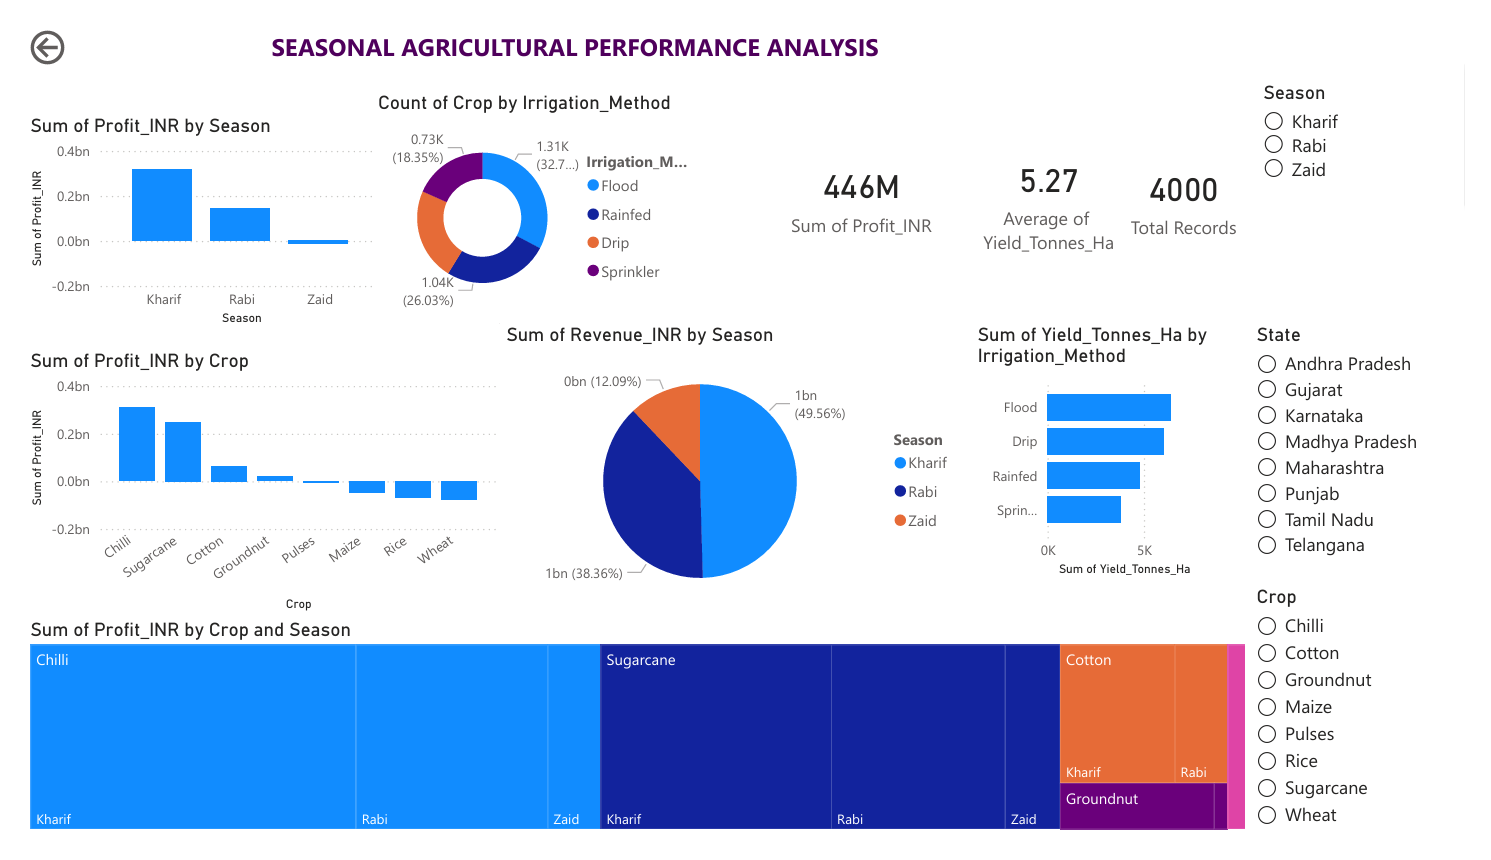

The dashboard page shown, as its layout file describes it:
{"tool":"powerbi","page":{"name":"Page 1","canvas":[1280,720],"ordinal":0},"visuals":[{"type":"lineStackedColumnComboChart","fields":{"Category":["seasonal_agriculture_cleaned (1).Season"],"Y":["Sum(seasonal_agriculture_cleaned (1).Profit_INR)"]},"box":[0,79.1,322.7,192.7],"z":0},{"type":"card","fields":{"Values":["Sum(seasonal_agriculture_cleaned (1).Revenue_INR)"]},"box":[354.6,128.4,275.1,211.6],"z":1000},{"type":"donutChart","fields":{"Y":["CountNonNull(seasonal_agriculture_cleaned (1).Crop)"],"Category":["seasonal_agriculture_cleaned (1).Irrigation_Method"]},"box":[309.1,59.1,287.3,206.4],"z":2000},{"type":"pieChart","fields":{"Y":["Sum(seasonal_agriculture_cleaned (1).Revenue_INR)"],"Category":["seasonal_agriculture_cleaned (1).Season"]},"box":[423.1,265.4,418.2,261.7],"z":3000},{"type":"columnChart","fields":{"Y":["Sum(seasonal_agriculture_cleaned (1).Profit_INR)"],"Category":["seasonal_agriculture_cleaned (1).Crop"]},"box":[0,288.2,423.6,238.2],"z":4000},{"type":"card","fields":{"Values":["Avg(seasonal_agriculture_cleaned (1).Yield_Tonnes_Ha)"]},"box":[841.8,59.1,136.4,175.5],"z":5000},{"type":"card","fields":{"Values":["CountNonNull(seasonal_agriculture_cleaned (1).Season)"]},"box":[970.9,59.1,118.2,191.8],"z":6000},{"type":"barChart","fields":{"Category":["seasonal_agriculture_cleaned (1).Irrigation_Method"],"Y":["Sum(seasonal_agriculture_cleaned (1).Yield_Tonnes_Ha)"]},"box":[841.8,265.5,216.4,229.1],"z":7000},{"type":"treemap","fields":{"Details":["seasonal_agriculture_cleaned (1).Season"],"Group":["seasonal_agriculture_cleaned (1).Crop"],"Values":["Sum(seasonal_agriculture_cleaned (1).Profit_INR)"]},"box":[0,527,1089.5,193.2],"z":8000},{"type":"listSlicer","fields":{"Values":["seasonal_agriculture_cleaned (1).Season"]},"box":[1095.7,50.1,184.6,200.5],"z":9000},{"type":"listSlicer","fields":{"Values":["seasonal_agriculture_cleaned (1).State"]},"box":[1089.5,265.4,190.8,214],"z":10000},{"type":"listSlicer","fields":{"Values":["seasonal_agriculture_cleaned (1).Crop"]},"box":[1089.5,497.7,184.6,222.6],"z":11000},{"type":"textbox","box":[0,0,978.2,55.5],"z":12000},{"type":"card","fields":{"Values":["Sum(seasonal_agriculture_cleaned (1).Total_Cost_INR)"]},"box":[645.7,55,195.7,195.7],"z":12001},{"type":"actionButton","box":[0,0,100,40],"z":12002}]}

Visuals, with their boxes in screenshot pixels (x1, y1, x2, y2), scaled from the page's 1280x720 canvas onto the 1491x860 screenshot:
lineStackedColumnComboChart - seasonal_agriculture_cleaned (1).Season x Sum(seasonal_agriculture_cleaned (1).Profit_INR): <bbox>0, 94, 376, 325</bbox>
card - Sum(seasonal_agriculture_cleaned (1).Revenue_INR): <bbox>413, 153, 734, 406</bbox>
donutChart - CountNonNull(seasonal_agriculture_cleaned (1).Crop) x seasonal_agriculture_cleaned (1).Irrigation_Method: <bbox>360, 71, 695, 317</bbox>
pieChart - Sum(seasonal_agriculture_cleaned (1).Revenue_INR) x seasonal_agriculture_cleaned (1).Season: <bbox>493, 317, 980, 630</bbox>
columnChart - Sum(seasonal_agriculture_cleaned (1).Profit_INR) x seasonal_agriculture_cleaned (1).Crop: <bbox>0, 344, 493, 629</bbox>
card - Avg(seasonal_agriculture_cleaned (1).Yield_Tonnes_Ha): <bbox>981, 71, 1139, 280</bbox>
card - CountNonNull(seasonal_agriculture_cleaned (1).Season): <bbox>1131, 71, 1269, 300</bbox>
barChart - seasonal_agriculture_cleaned (1).Irrigation_Method x Sum(seasonal_agriculture_cleaned (1).Yield_Tonnes_Ha): <bbox>981, 317, 1233, 591</bbox>
treemap - seasonal_agriculture_cleaned (1).Season x seasonal_agriculture_cleaned (1).Crop: <bbox>0, 629, 1269, 859</bbox>
listSlicer - seasonal_agriculture_cleaned (1).Season: <bbox>1276, 60, 1490, 299</bbox>
listSlicer - seasonal_agriculture_cleaned (1).State: <bbox>1269, 317, 1490, 573</bbox>
listSlicer - seasonal_agriculture_cleaned (1).Crop: <bbox>1269, 594, 1484, 859</bbox>
textbox: <bbox>0, 0, 1139, 66</bbox>
card - Sum(seasonal_agriculture_cleaned (1).Total_Cost_INR): <bbox>752, 66, 980, 299</bbox>
actionButton: <bbox>0, 0, 116, 48</bbox>
